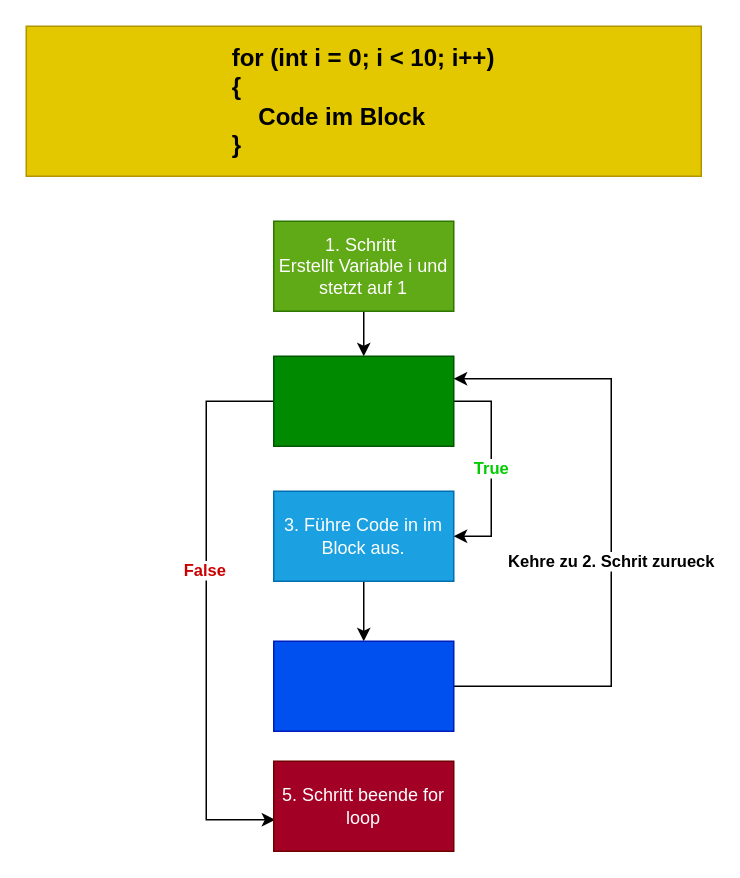
Some shapes in this 740 by 878 pixel diagram are drawn without their labels. Here are the shapes that lost their labels. From the top down, the centre of each, then its label:
At point 363,400: "2. Schritt Pruefe ob Condition gilt".
At point 363,685: "4. Eroehe i Variable um 1".
